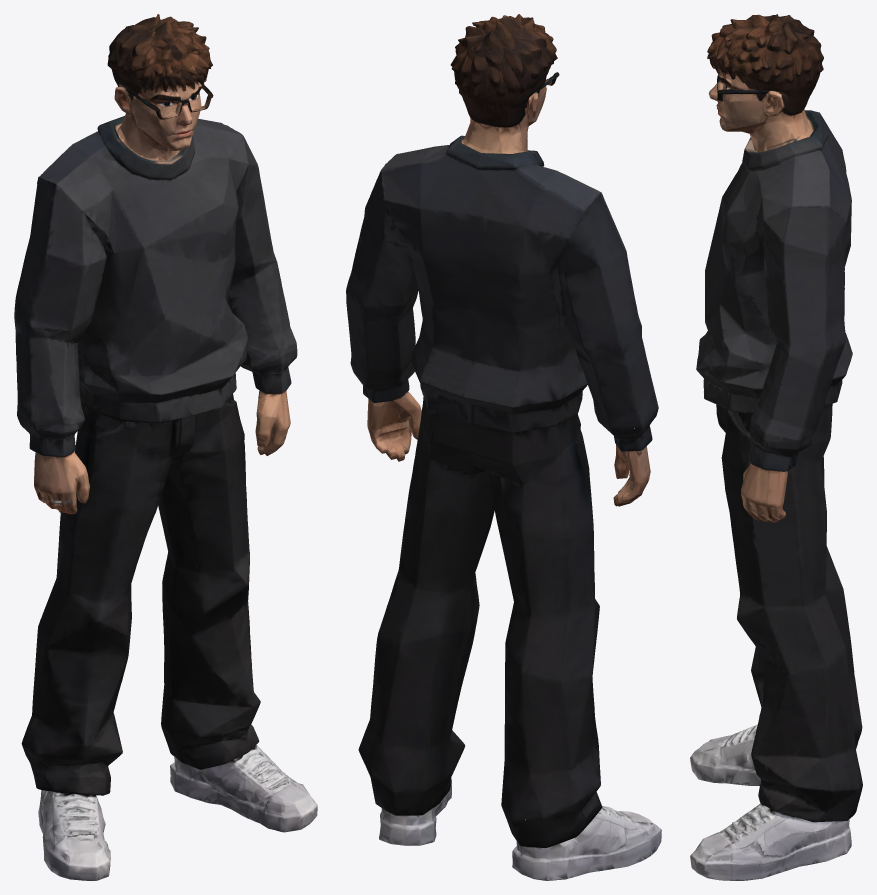
3 views of the same model, side by side, from view 1: azimuth 30°, elevation 25°; view 2: azimuth 150°, elevation 25°; view 3: azimuth 270°, elevation 25° (orthographic).
Parts seen in each view (by area): view 1: tripo_node_efb8909b-0be8-485c-8f09-a89630d1901e; view 2: tripo_node_efb8909b-0be8-485c-8f09-a89630d1901e; view 3: tripo_node_efb8909b-0be8-485c-8f09-a89630d1901e.
Boxes of the visible parts, x1,y1,x2,y2 form: tripo_node_efb8909b-0be8-485c-8f09-a89630d1901e: [14, 14, 317, 880]; tripo_node_efb8909b-0be8-485c-8f09-a89630d1901e: [346, 14, 661, 880]; tripo_node_efb8909b-0be8-485c-8f09-a89630d1901e: [690, 14, 862, 880].
Bounding box in the file's own units: 0.3489 × 0.9795 × 0.1896.
1 material, 1 textured.
